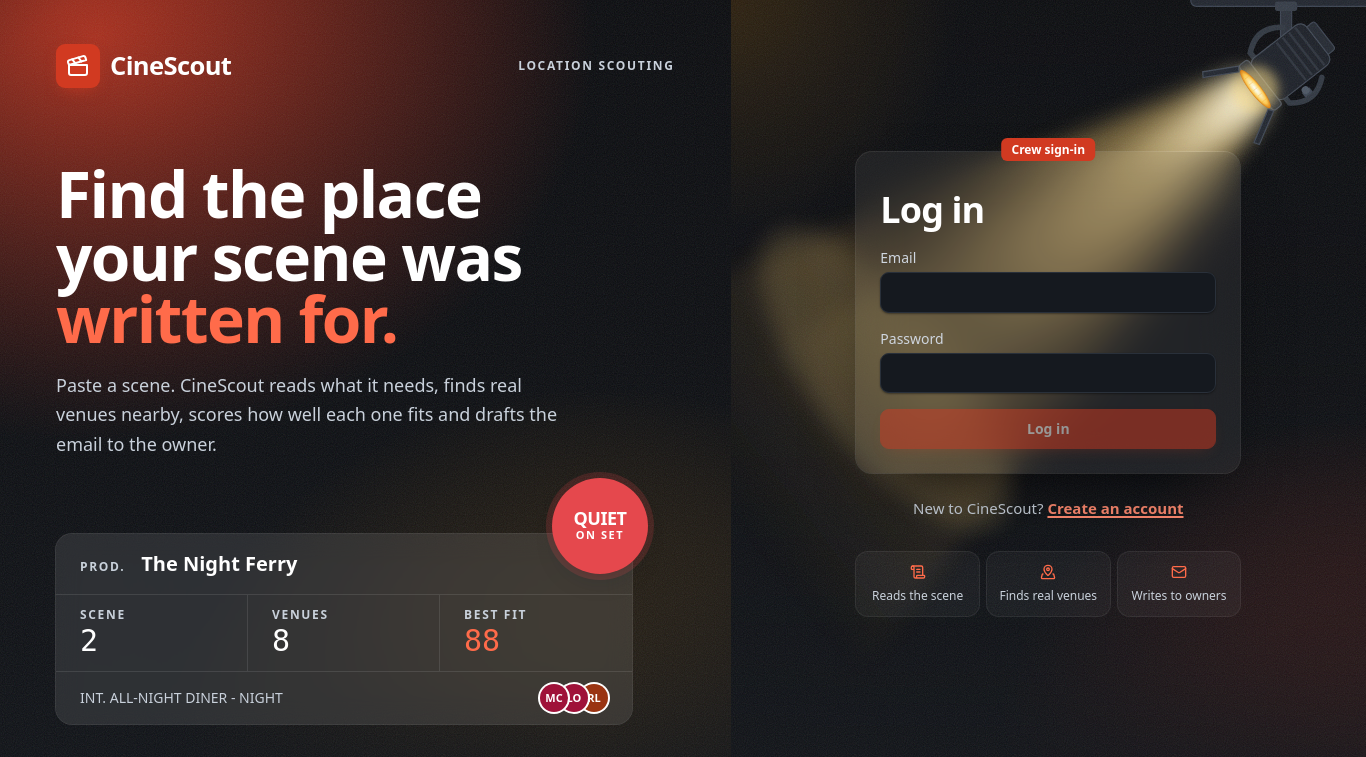
Test: the account page › is reached from the header and renames the account everywhere at once
In the field labelled "Email": (1048, 293) [880, 272, 1216, 313], type "ada@example.com"
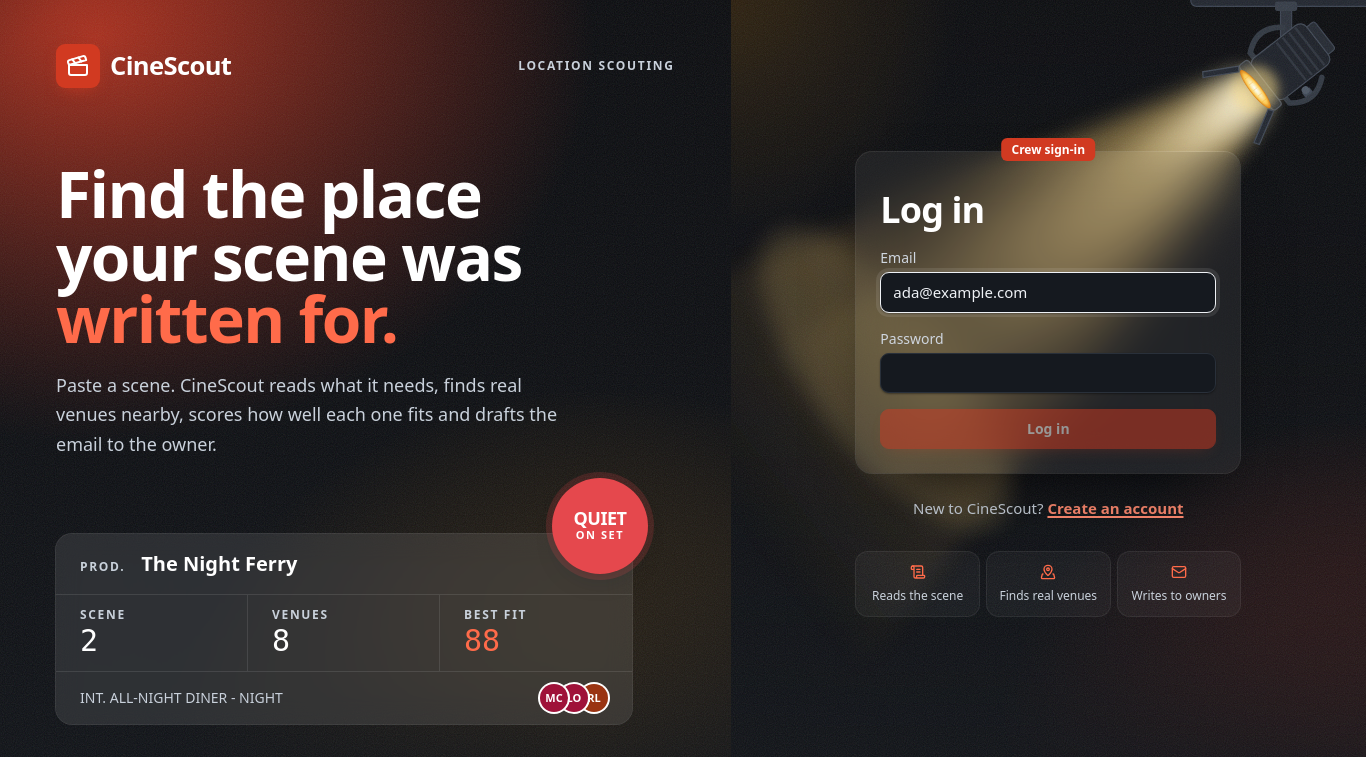
In the password field labelled "Password": (1048, 373) [880, 353, 1216, 393], type "a-long-password"
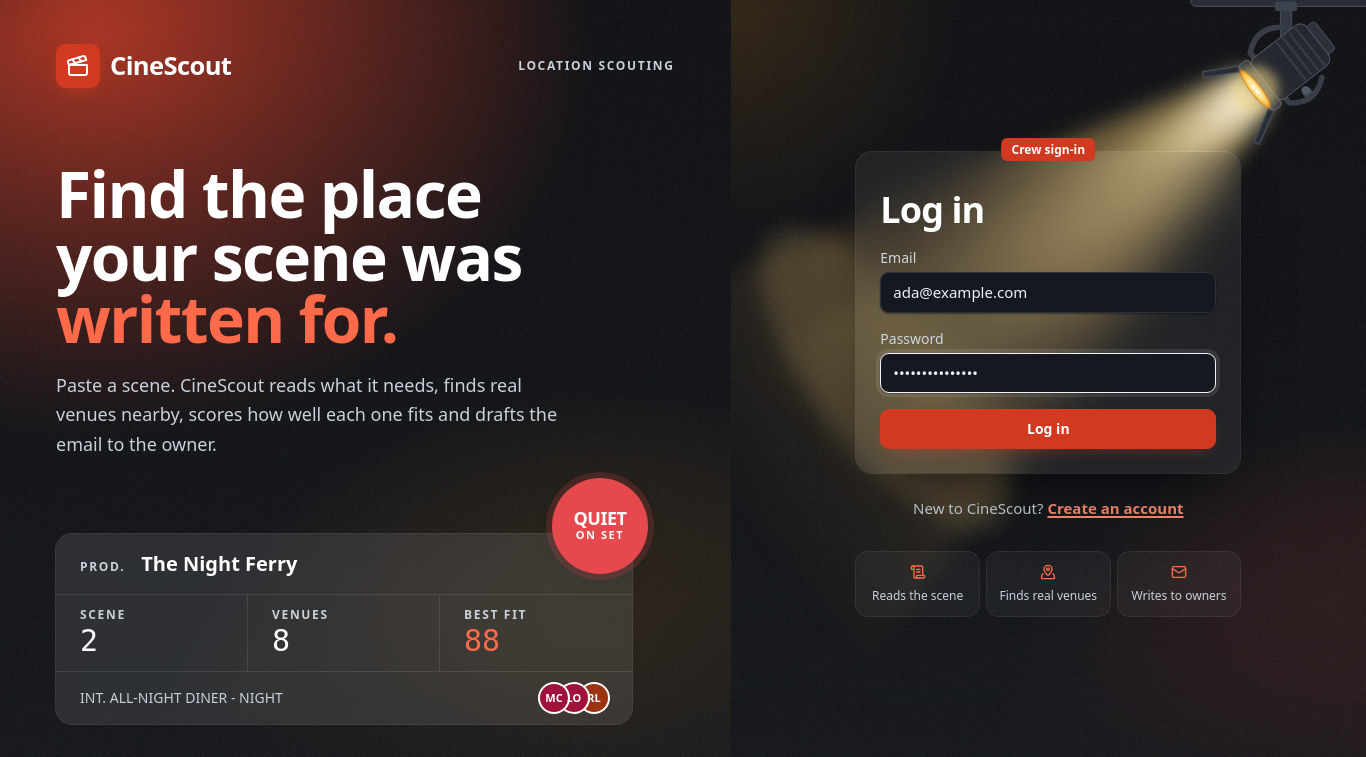
Click the button "Log in": (1048, 429) [880, 409, 1216, 449]
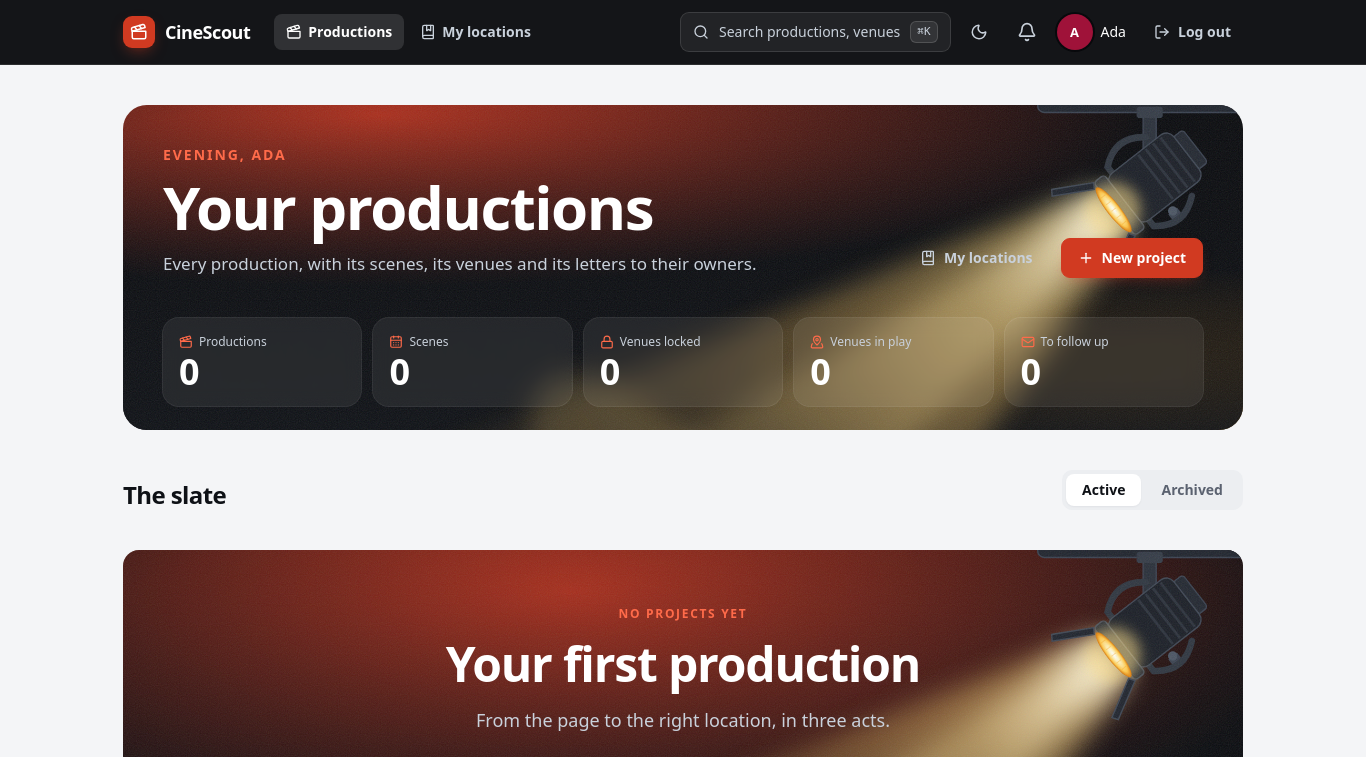
Click the link named "Account: Ada": (1094, 32) [1054, 12, 1134, 52]
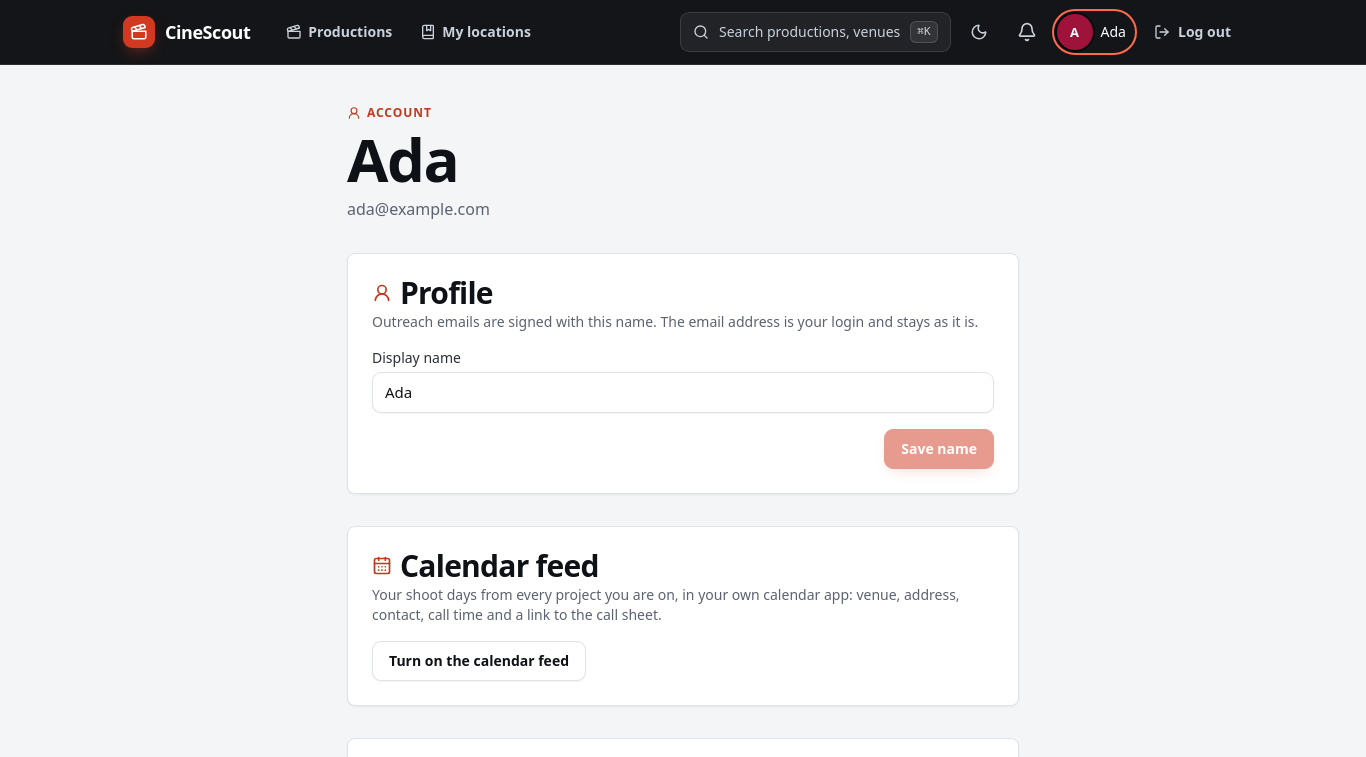
expect the text "ada@example.com" is shown: met, box [347, 198, 490, 220]
expect the button "Save name" is disabled: met, box [884, 428, 994, 468]
Replace the text in the field labelled "Display name" with " Ada Lovelace ": (683, 392) [372, 372, 994, 412]
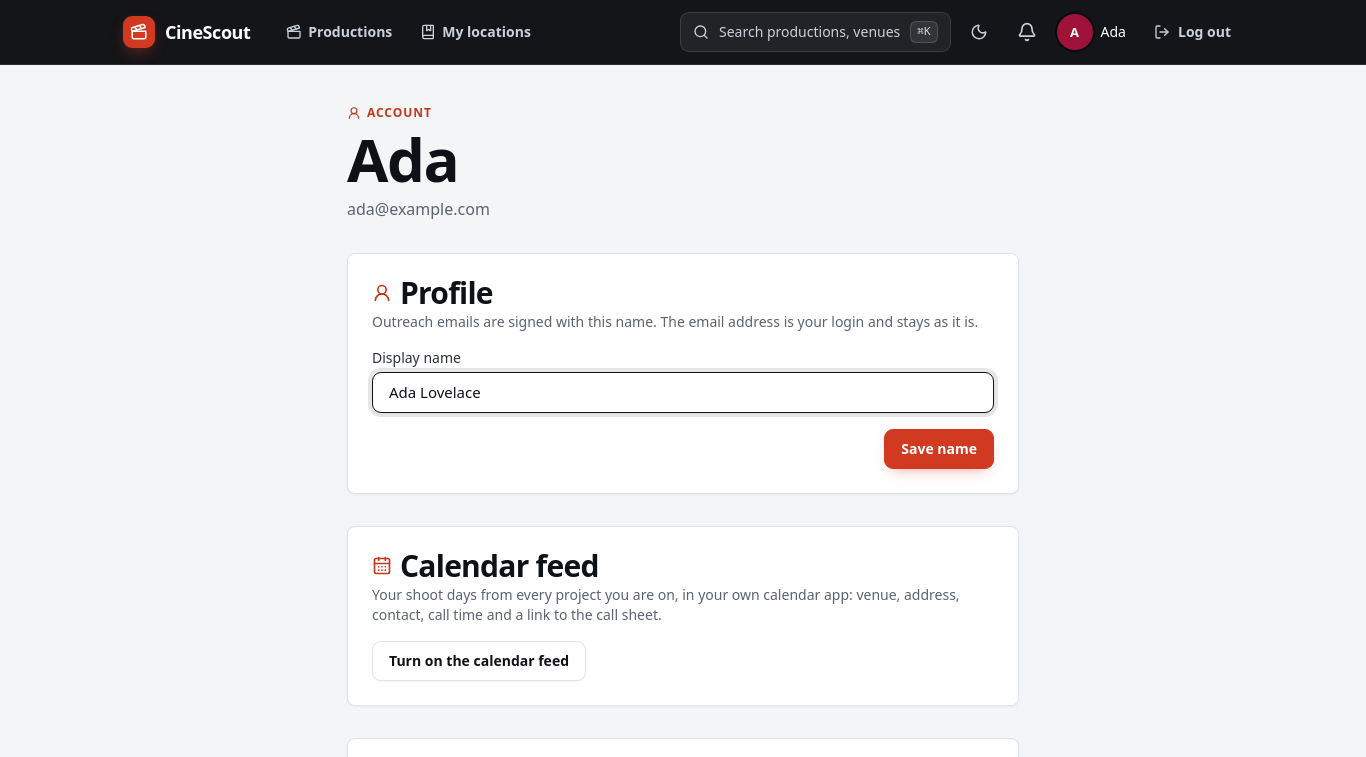
Click the button "Save name": (939, 448) [884, 428, 994, 468]
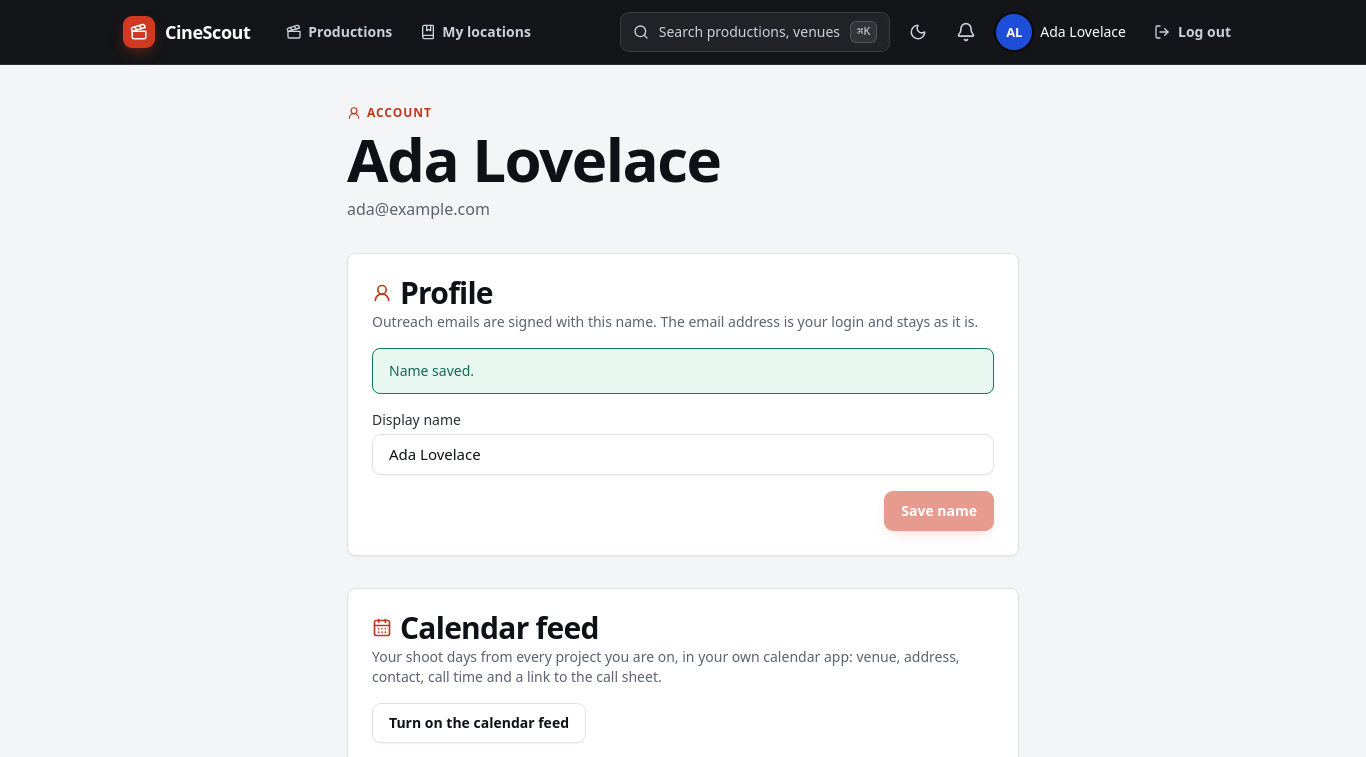
expect the message reads "Name saved.": met, box [389, 361, 474, 380]
expect the heading "Ada Lovelace" is shown: met, box [347, 118, 720, 200]
expect the link named "Account: Ada Lovelace" is shown: met, box [994, 12, 1134, 52]
